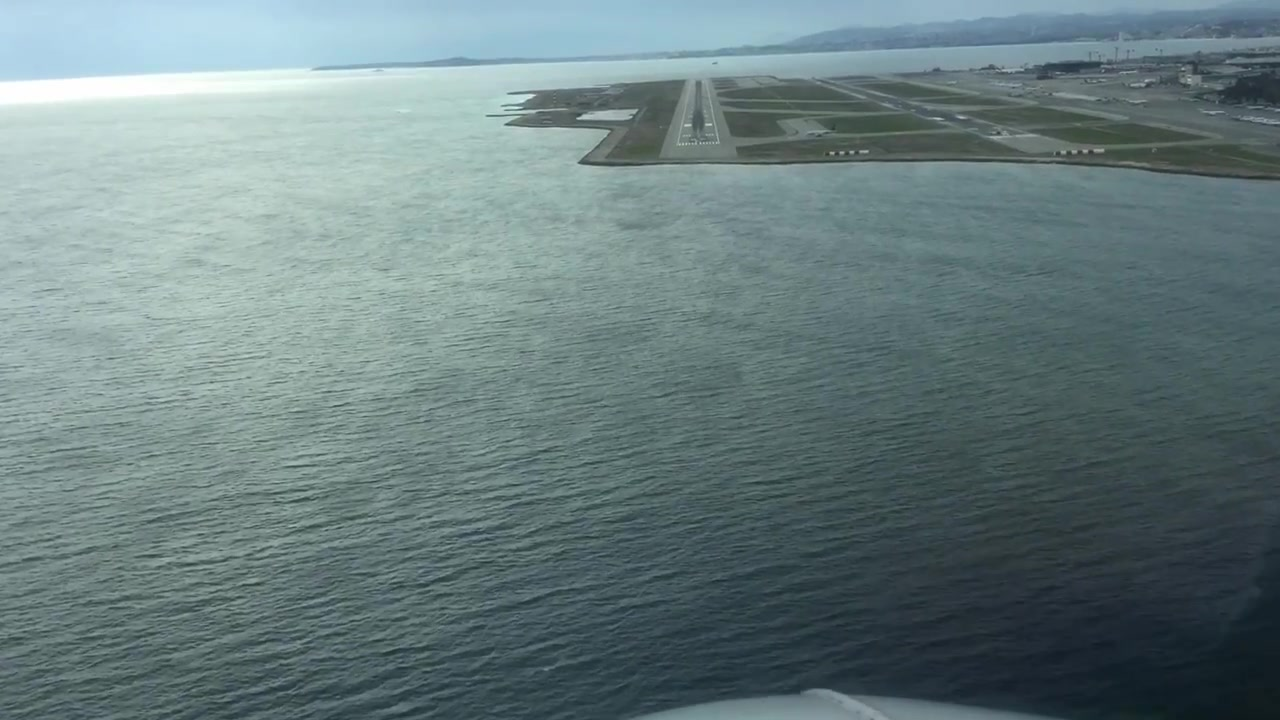entrance: (676, 138, 719, 147)
runway: (818, 82, 1038, 139), (659, 78, 737, 159)
